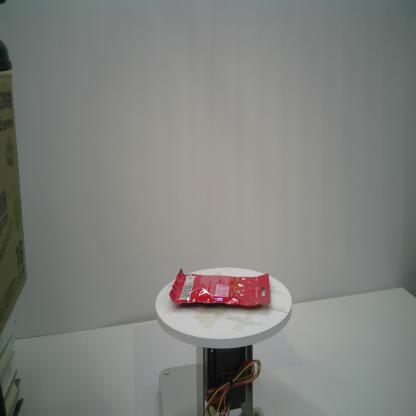Candy: (168, 266, 272, 310)
